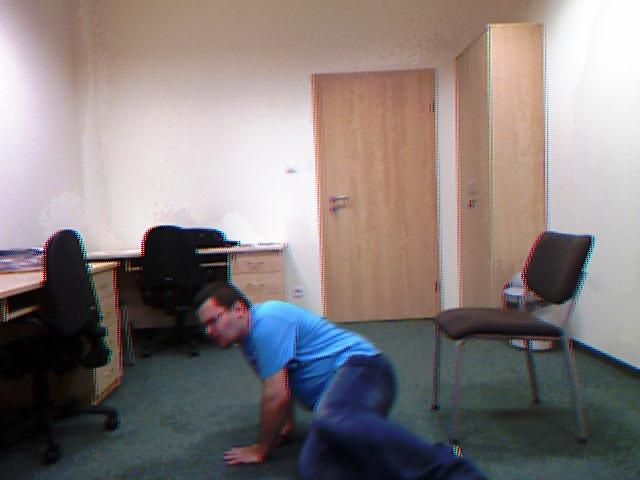fall: (182, 277, 499, 480)
